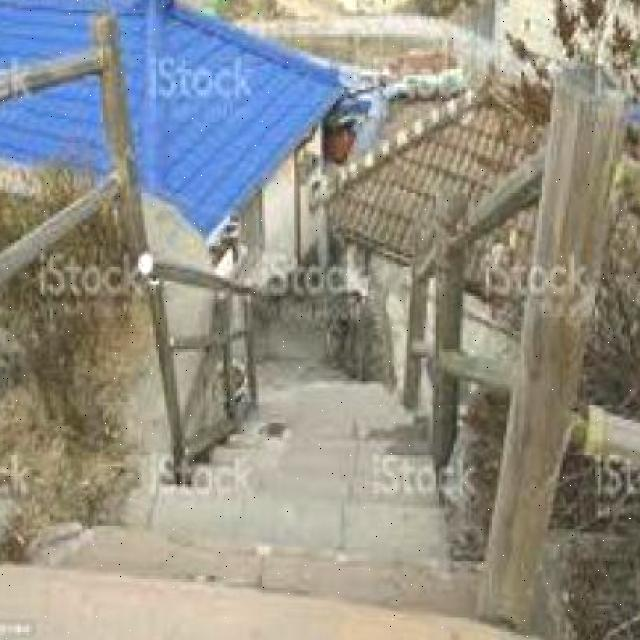stair: (74, 434, 436, 629)
